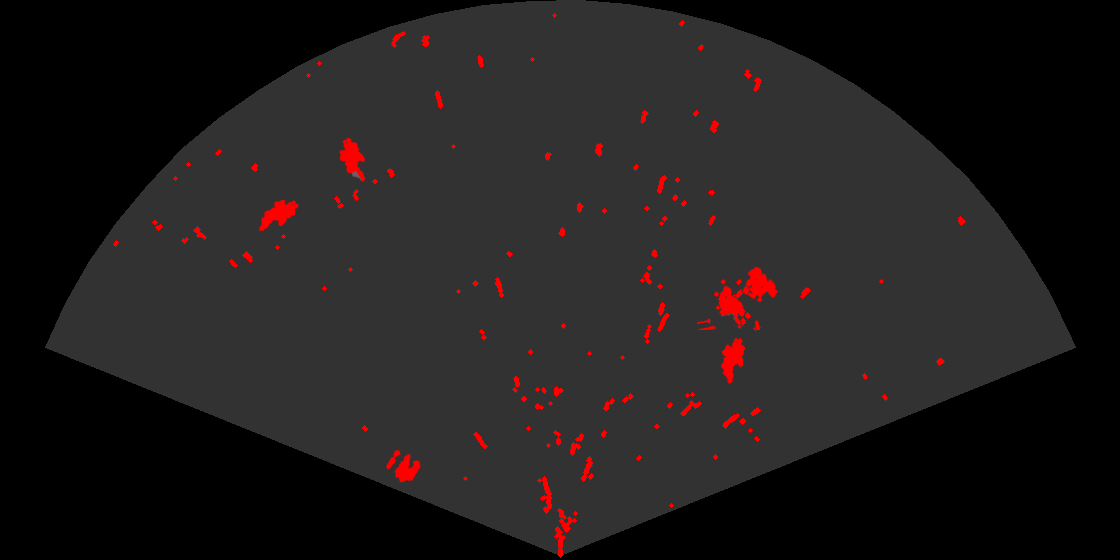AUV: (257, 198, 300, 233), (338, 136, 367, 183), (720, 336, 747, 386)
ball: (384, 448, 422, 484)
cage: (697, 265, 780, 330)
